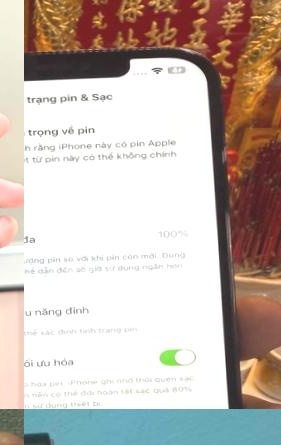scratch: (24, 432, 74, 445)
